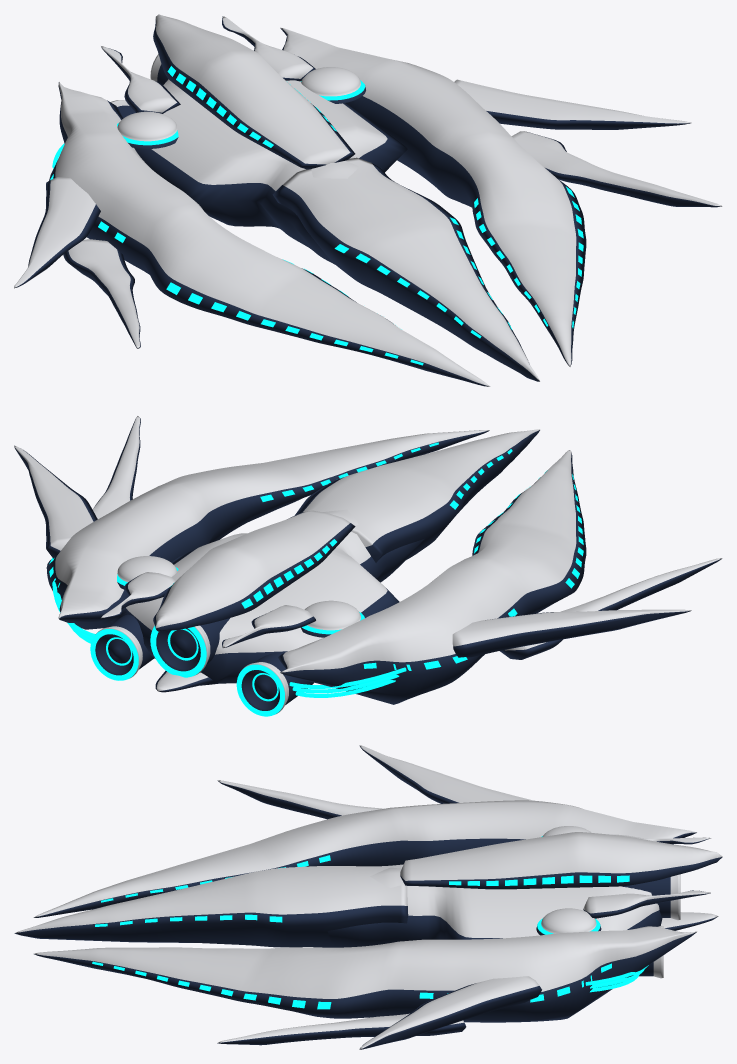
Rendered from white_falcon_model.glb.
3 views of the same model, one above another, from view 1: azimuth 30°, elevation 25°; view 2: azimuth 150°, elevation 25°; view 3: azimuth 270°, elevation 25° (orthographic). The views are drawn at different scales.
Visible parts, largest first — view 1: Blade_Side, Blade_Central, Core_Hull, Crest, Spike_Upper, Spike_Lower, Pod, Fin_Rear; view 2: Blade_Side, Blade_Central, Crest, Core_Hull, Spike_Upper, Engine_Lower, Spike_Lower, Engine_Top, Fin_Rear, Pod, Engine_Conduits, Tail_Keel; view 3: Blade_Side, Blade_Central, Crest, Core_Hull, Spike_Upper, Spike_Lower, Fin_Rear, Pod, Engine_Top, Tail_Keel, Engine_Conduits.
Part boxes in pixels (x1,y1,x2,y2): Blade_Side: (49, 27, 586, 386); Blade_Central: (272, 157, 539, 381); Core_Hull: (135, 79, 407, 264); Crest: (153, 14, 355, 169); Spike_Upper: (14, 79, 691, 288); Spike_Lower: (63, 131, 722, 348); Pod: (117, 67, 365, 148); Fin_Rear: (101, 16, 315, 113); Blade_Side: (46, 430, 586, 704); Blade_Central: (295, 429, 539, 562); Crest: (153, 510, 355, 631); Core_Hull: (110, 509, 424, 685); Spike_Upper: (14, 445, 691, 657); Engine_Lower: (90, 614, 313, 716); Spike_Lower: (92, 416, 722, 659); Engine_Top: (150, 618, 229, 677); Fin_Rear: (101, 572, 315, 647); Pod: (117, 556, 364, 637); Engine_Conduits: (52, 582, 406, 697); Tail_Keel: (155, 670, 213, 692); Blade_Side: (33, 800, 696, 1022); Blade_Central: (14, 864, 408, 947); Crest: (400, 832, 722, 889); Core_Hull: (313, 867, 662, 947); Spike_Upper: (359, 745, 541, 1049); Spike_Lower: (217, 780, 466, 1045); Fin_Rear: (583, 834, 710, 918); Pod: (536, 826, 601, 935); Engine_Top: (622, 874, 680, 920); Tail_Keel: (661, 912, 718, 930); Engine_Conduits: (585, 965, 648, 992).
Bounding box in the file's own units: 25.5 × 4.42 × 25.07.
